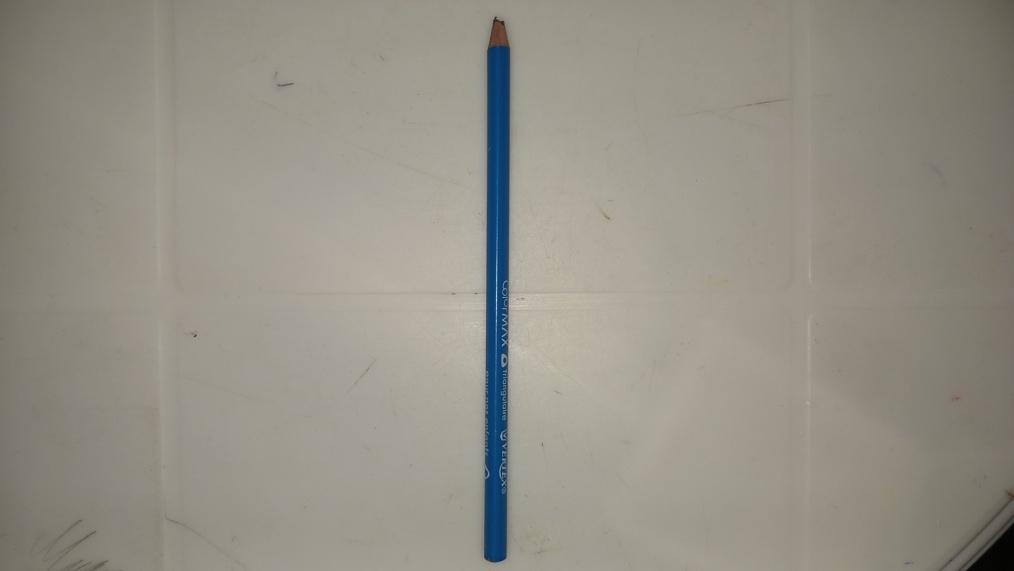Pencil: (486, 16, 508, 566)
